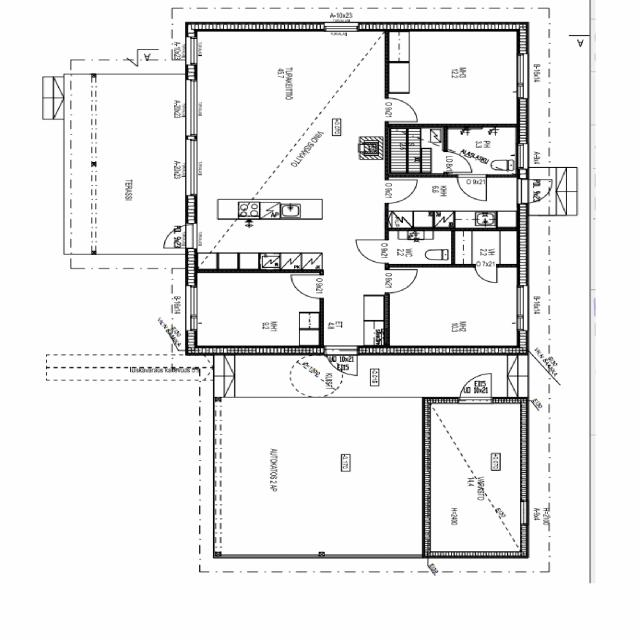door: (327, 345, 358, 380), (460, 371, 492, 403), (157, 225, 197, 248), (518, 180, 558, 202), (385, 98, 419, 122), (458, 174, 487, 201), (356, 240, 390, 263), (385, 180, 418, 203), (291, 275, 324, 298), (385, 270, 419, 292), (443, 152, 474, 172), (476, 264, 497, 285)
